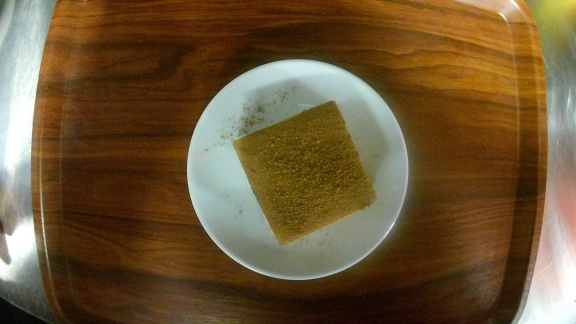tiramisu: (185, 57, 409, 280)
